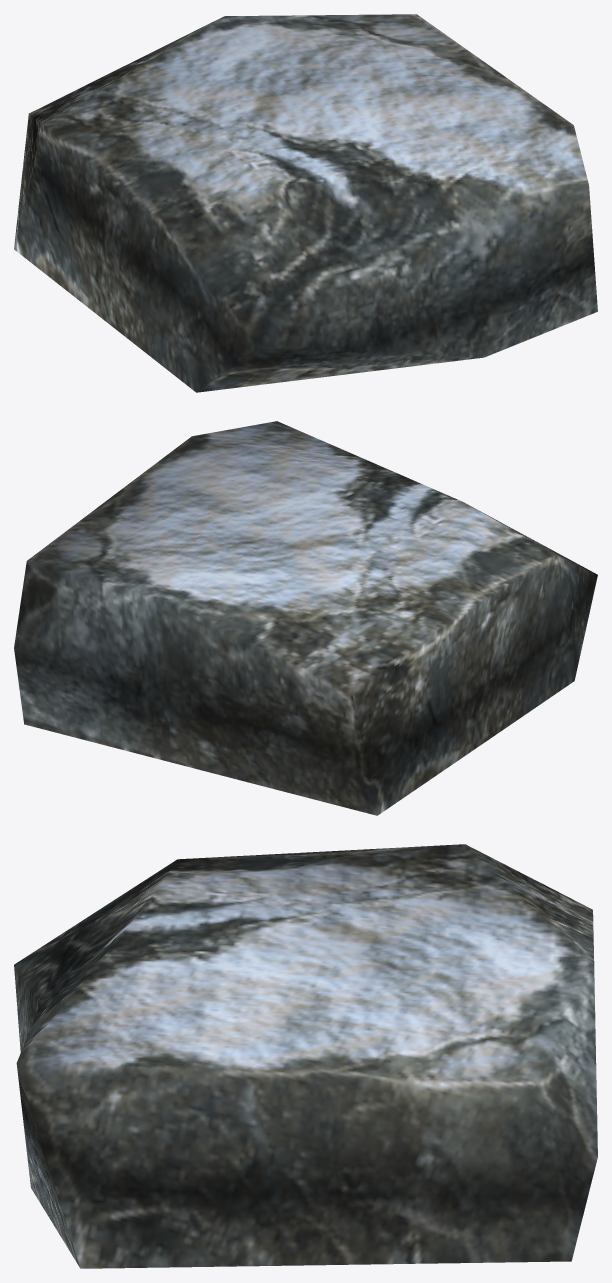
File: SC_bingfengyiji_shitou03.FBX
The picture shows the model from 3 angles, top to bottom: view 1: azimuth 30°, elevation 25°; view 2: azimuth 150°, elevation 25°; view 3: azimuth 270°, elevation 25°; orthographic projection. The views are drawn at different scales.
Parts seen in each view (by area): view 1: SC_bingfengyiji_shitou03; view 2: SC_bingfengyiji_shitou03; view 3: SC_bingfengyiji_shitou03.
Boxes of the visible parts, x1=… form: SC_bingfengyiji_shitou03: x1=14, y1=14, x2=597, y2=392; SC_bingfengyiji_shitou03: x1=14, y1=421, x2=597, y2=815; SC_bingfengyiji_shitou03: x1=14, y1=844, x2=597, y2=1268.
Bounding box in the file's own units: 219 × 92.36 × 231.
